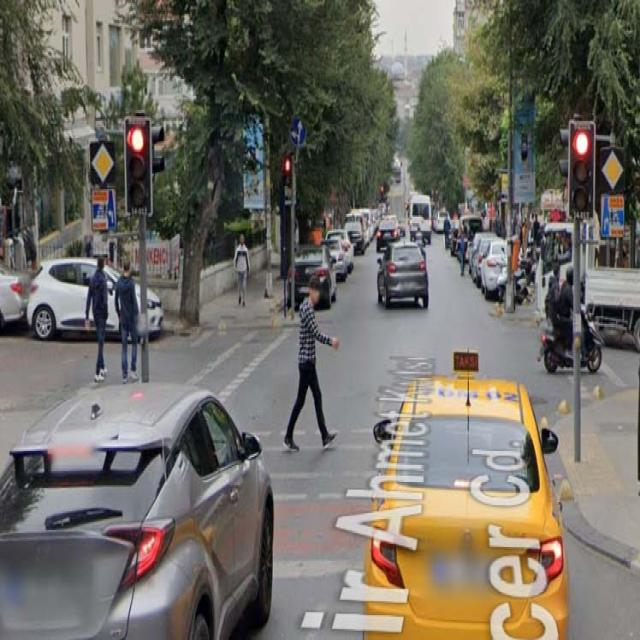kirmizi: (123, 117, 151, 216), (569, 121, 595, 217)
